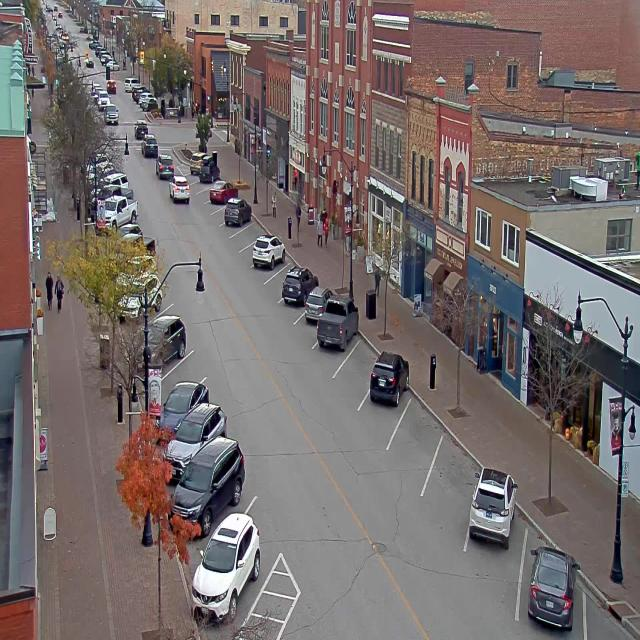available: (393, 387, 446, 468), (429, 434, 478, 514), (580, 589, 639, 639), (160, 342, 211, 389), (342, 331, 379, 390), (269, 258, 294, 290), (241, 212, 262, 245), (236, 236, 256, 270), (209, 207, 224, 226), (195, 186, 209, 204)
occupied: (169, 435, 245, 538), (194, 506, 264, 605), (527, 544, 579, 631), (164, 393, 234, 456), (468, 466, 517, 548), (155, 379, 209, 441), (316, 296, 358, 352), (368, 349, 409, 406), (142, 314, 186, 364), (282, 264, 318, 305), (252, 232, 285, 269), (302, 288, 326, 324), (224, 197, 252, 227), (198, 160, 220, 184), (208, 182, 232, 202), (188, 151, 205, 175)
